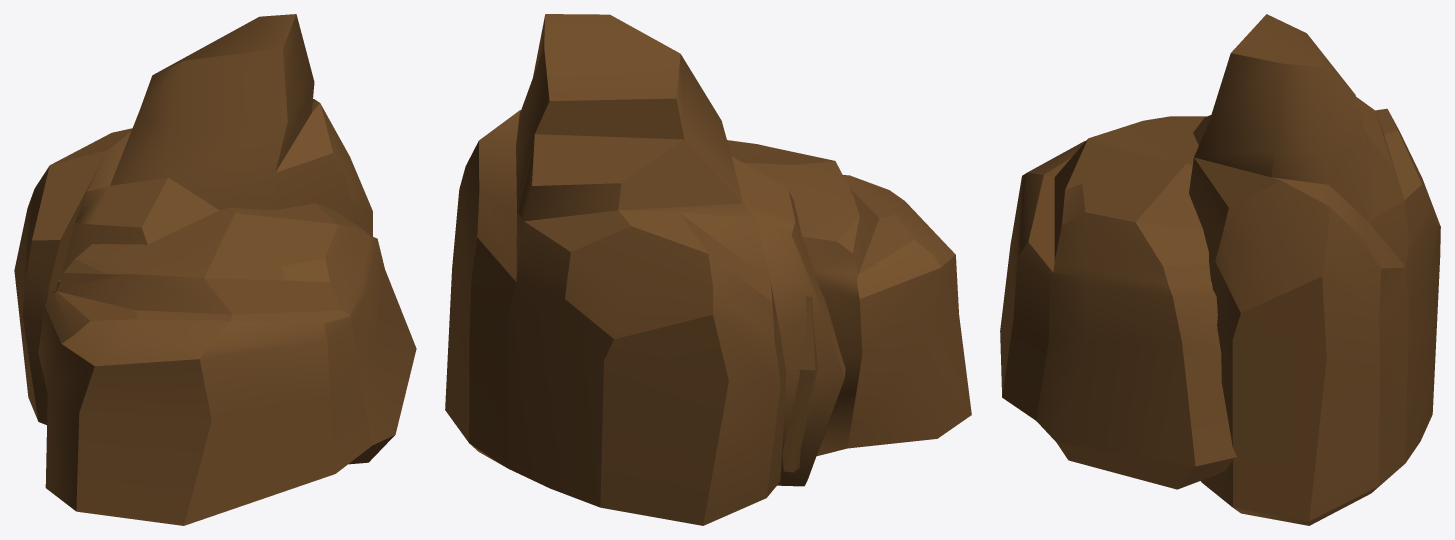
The model's file is quaternius-ultimate-space-rock-large-2-transformed.glb.
3 views of the same model, side by side, from view 1: azimuth 30°, elevation 25°; view 2: azimuth 150°, elevation 25°; view 3: azimuth 270°, elevation 25° (orthographic). The views are drawn at different scales.
Visible parts, largest first — view 1: Rock_Large_2; view 2: Rock_Large_2; view 3: Rock_Large_2.
Boxes of the visible parts, x1,y1,x2,y2 form: Rock_Large_2: [14, 14, 416, 525]; Rock_Large_2: [445, 14, 971, 525]; Rock_Large_2: [1000, 14, 1440, 525].
Bounding box in the file's own units: 8.54 × 8.21 × 7.62.
1 material, 1 textured.
